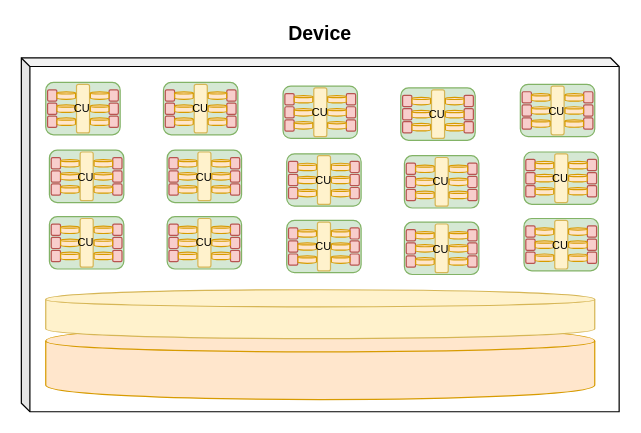
This 641x433 diagram has some shape labels left out. Here are the shapes that lost their labels. From the top down, the centre of each, then its label:
At point 320,314: "Constant memory".
At point 320,362: "Global memory".
